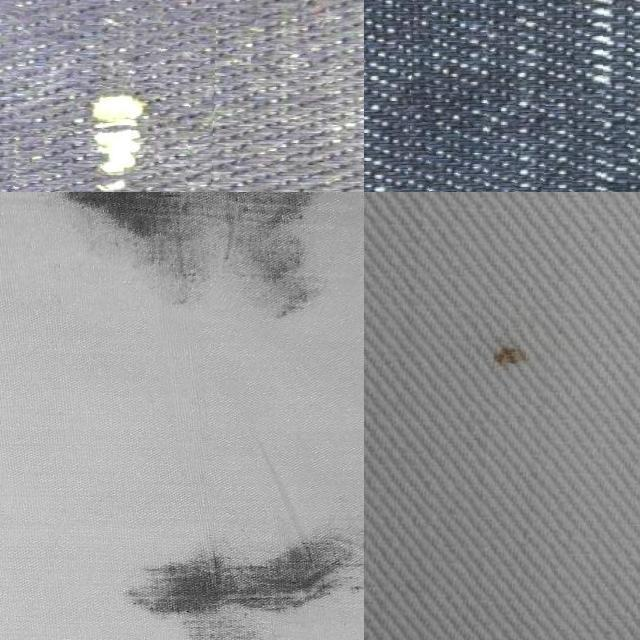Hole: (49, 192, 362, 344), (104, 512, 364, 640), (464, 315, 548, 405)
Thread_other: (409, 0, 640, 192), (0, 8, 213, 192)
